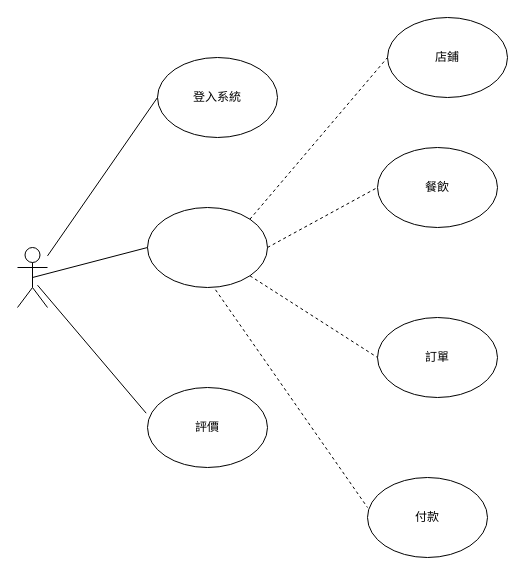
The diagram is 525 pixels wide and 575 high, and some of its shapes have lost their labels. The shapes that lost their labels are listed below. From the top down, each one's box as (x1, y1, x2, y2) in pixels, then its label:
(146, 206, 268, 288): 訂餐
(16, 246, 48, 308): Actor
